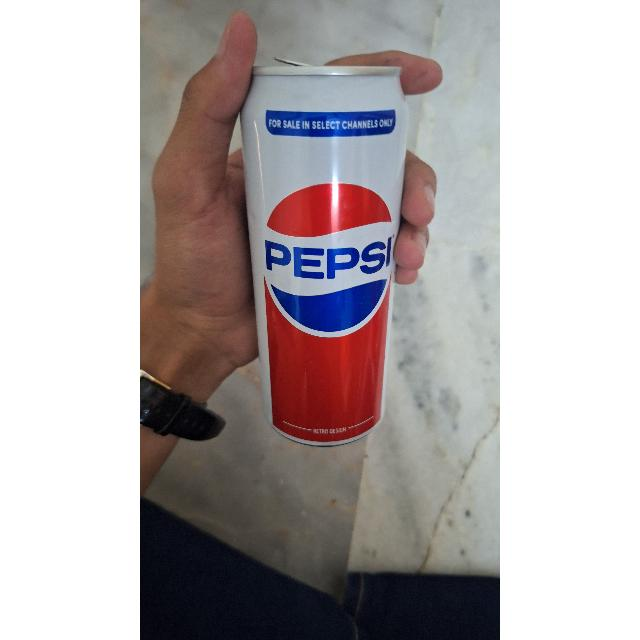Pepsi Retro: (236, 63, 414, 461)
